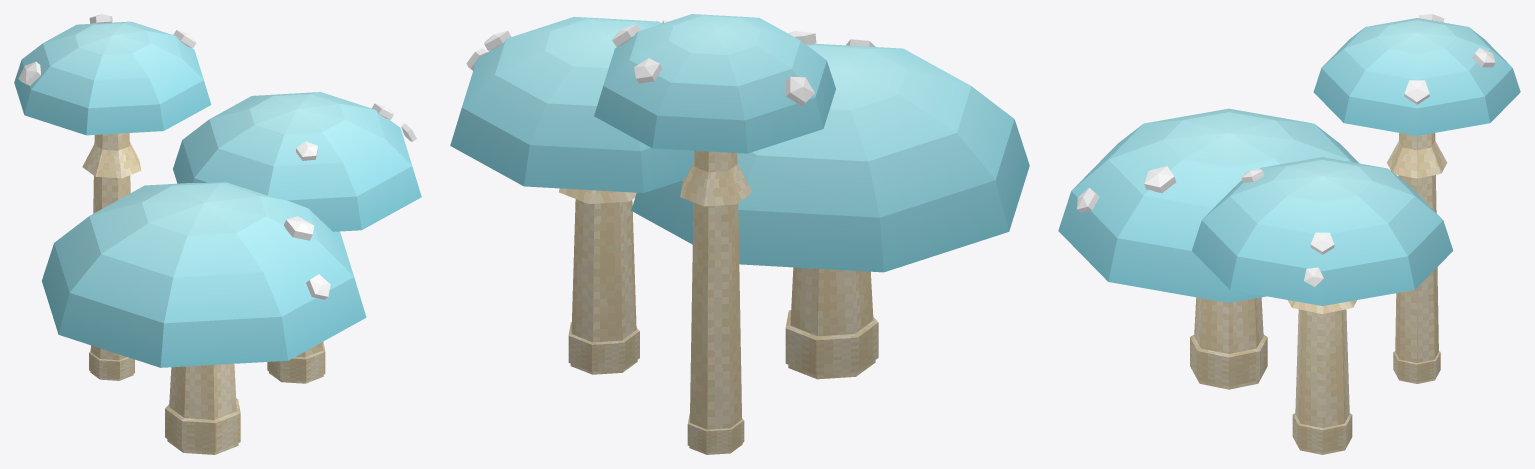
Rendered from crystal_cap.glb.
3 views of the same model, side by side, from view 1: azimuth 30°, elevation 25°; view 2: azimuth 150°, elevation 25°; view 3: azimuth 270°, elevation 25° (orthographic). The views are drawn at different scales.
Visible parts, largest first — view 1: crystal_cap; view 2: crystal_cap; view 3: crystal_cap.
Boxes of the visible parts, x1,y1,x2,y2 form: crystal_cap: (14,14,421,454); crystal_cap: (450,14,1029,454); crystal_cap: (1058,14,1520,454).
Size of the model in its own units: 2.15 by 1.79 by 2.13.
Materials: 3 (2 with a texture image).
